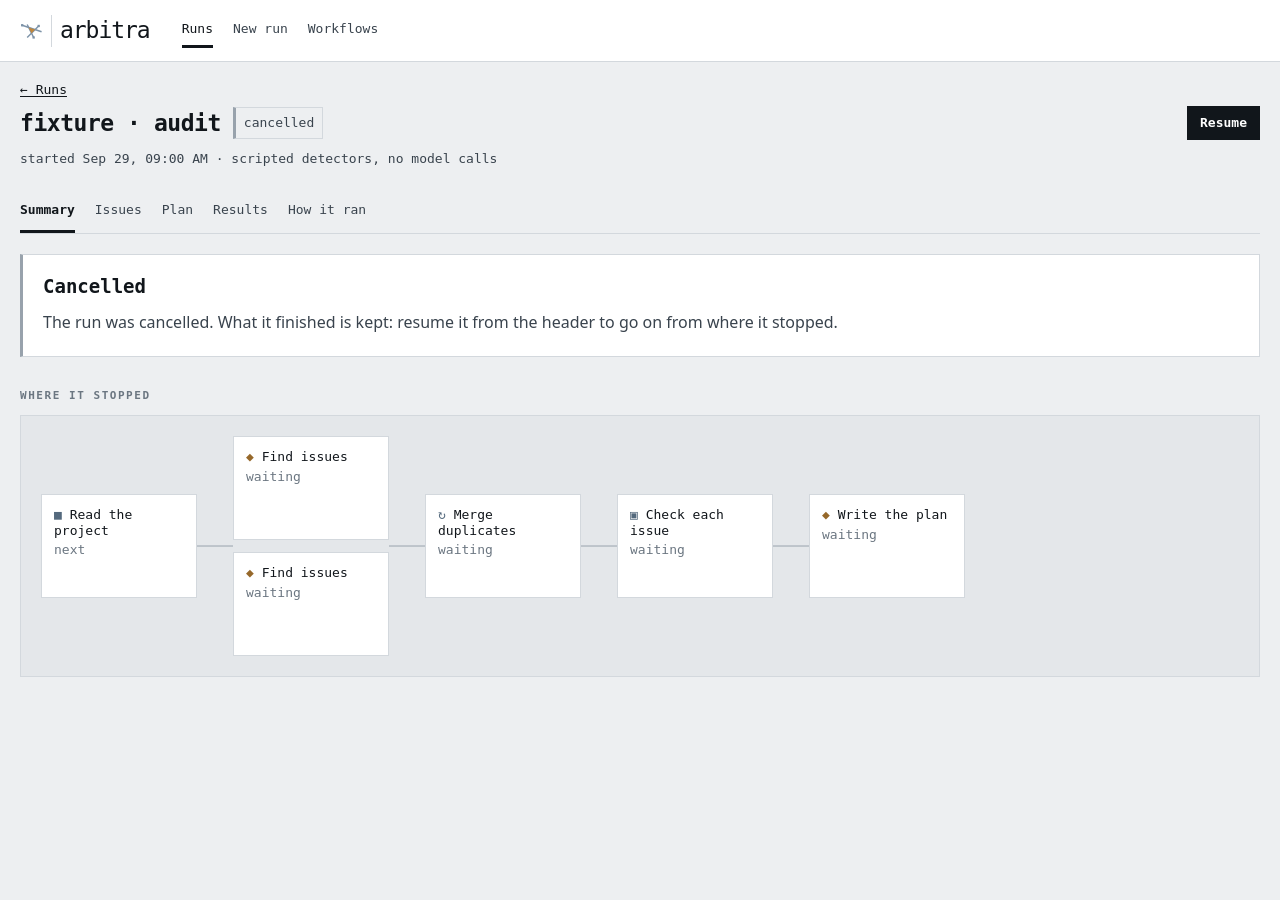
Test: the run page › names the files that changed for a scripted audit, and offers no reuse a scripted audit cannot make
Expected: the element "Cancelled" is shown, [20,254,1260,357]
Step 1. Click the button "Resume" → click(1224, 123), box [1187,106,1260,140]
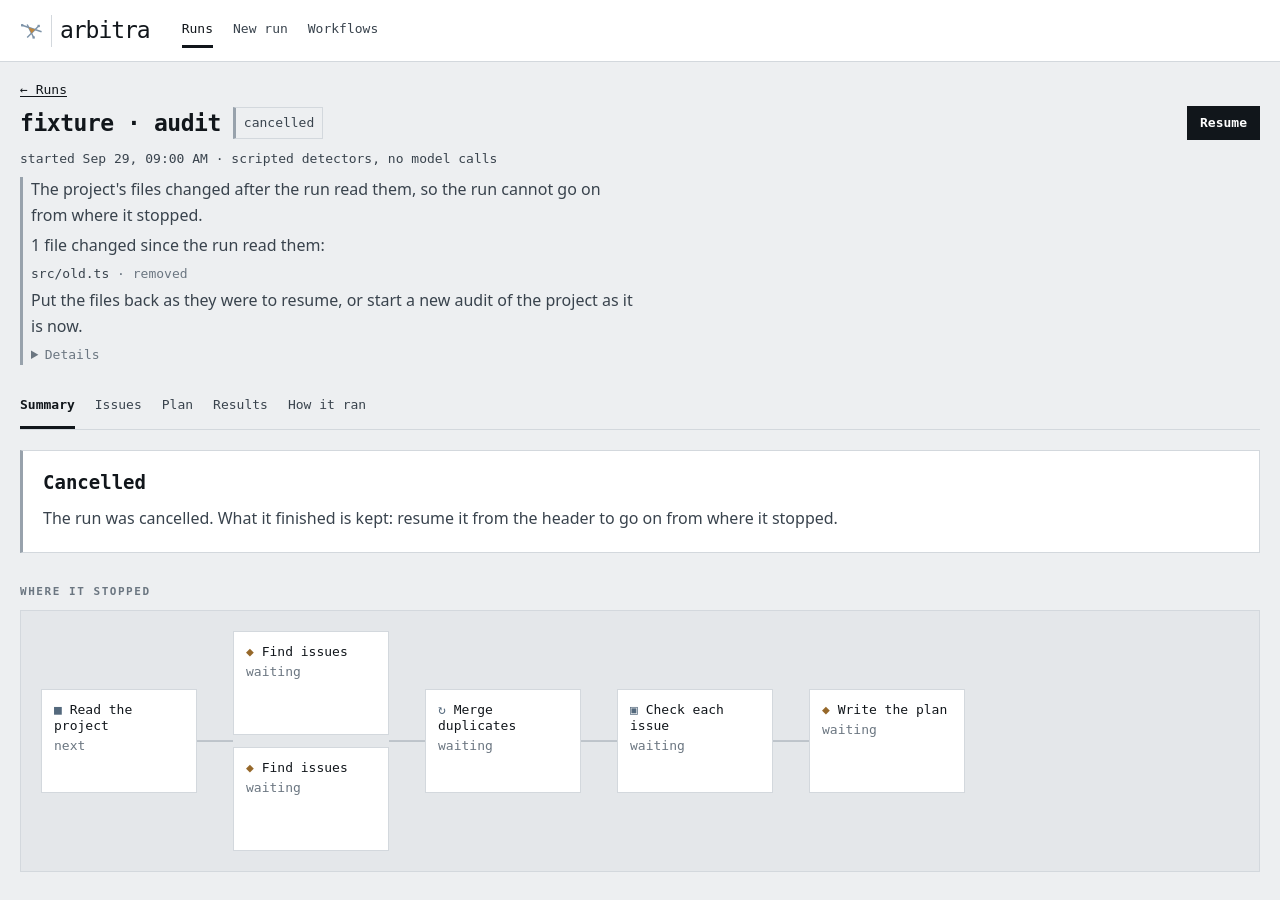
Now the list items read "src/old.ts · removed", in this order, box [31,266,188,281]
Now the text "Put the files back as they were to resume, or start a new audit of the project as it is now." is shown, box [31,289,633,337]
